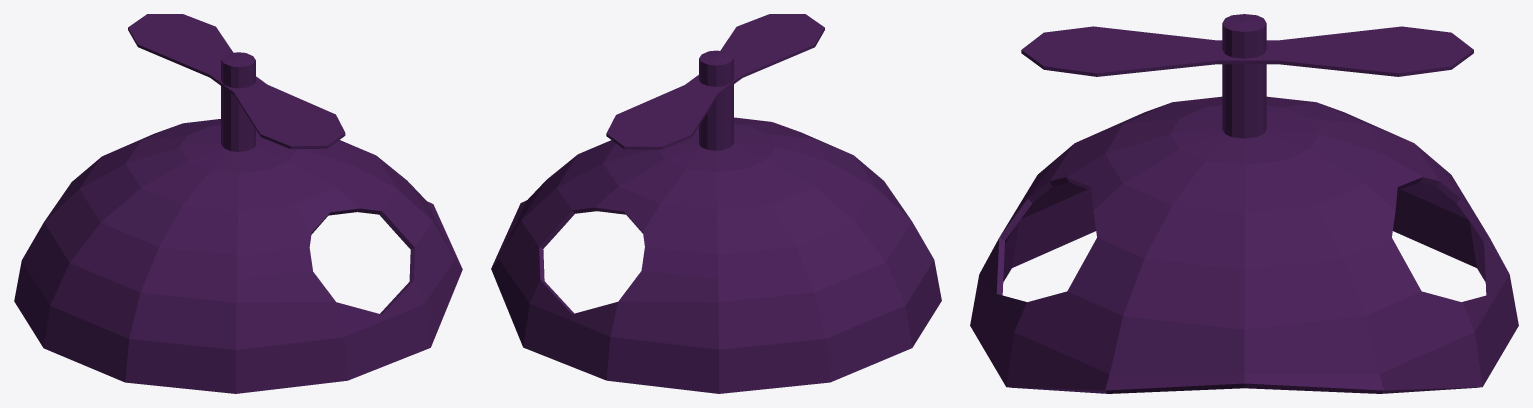
The model's file is Propeller_Hat.fbx.
3 views of the same model, side by side, from view 1: azimuth 30°, elevation 25°; view 2: azimuth 150°, elevation 25°; view 3: azimuth 270°, elevation 25° (orthographic). The views are drawn at different scales.
Parts seen in each view (by area): view 1: BaldCap.002; view 2: BaldCap.002; view 3: BaldCap.002.
Boxes of the visible parts, left/top/right/bottom form: BaldCap.002: left=14, top=14, right=462, bottom=393; BaldCap.002: left=491, top=14, right=941, bottom=393; BaldCap.002: left=970, top=14, right=1518, bottom=393.
Size of the model in its own units: 101 by 60.51 by 97.73.
